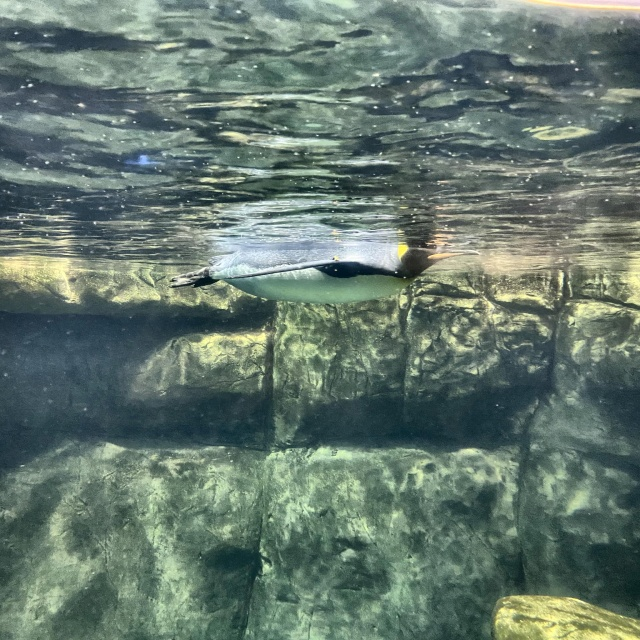penguin: (168, 242, 482, 304)
